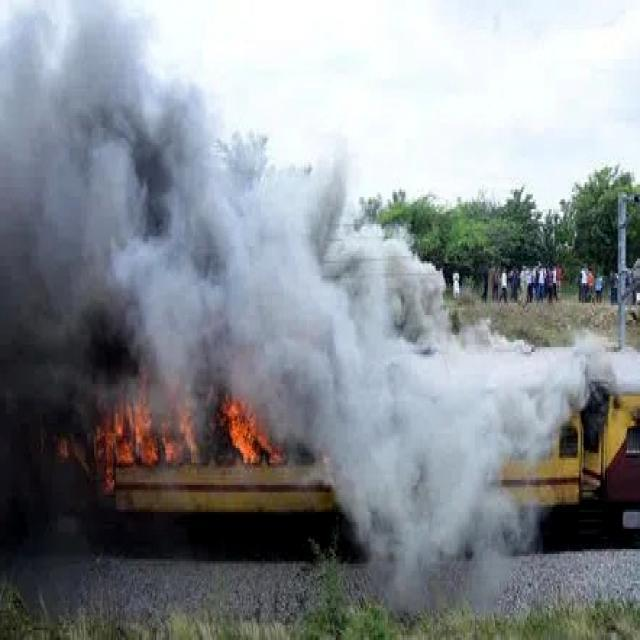Fire: (102, 390, 268, 482)
Smoke: (0, 9, 376, 556), (280, 225, 598, 632)
